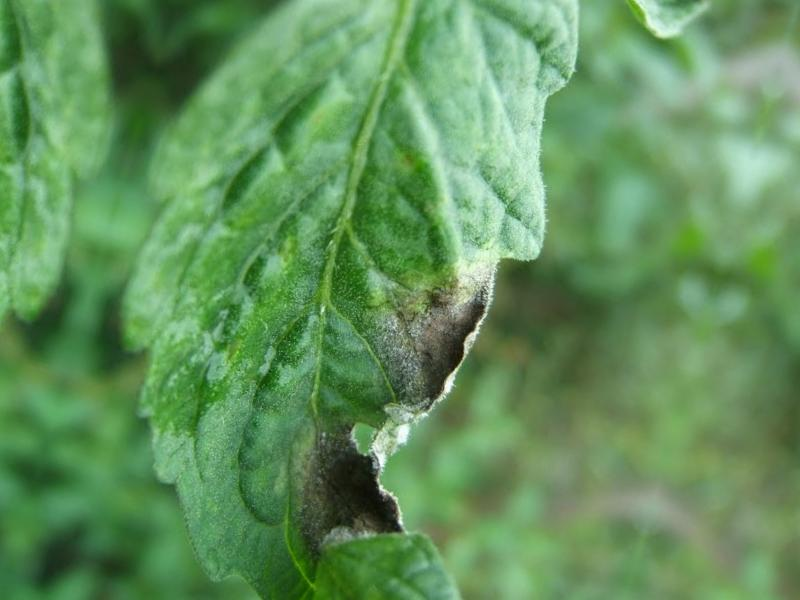Tomato leaf late blight: (38, 0, 676, 600)
